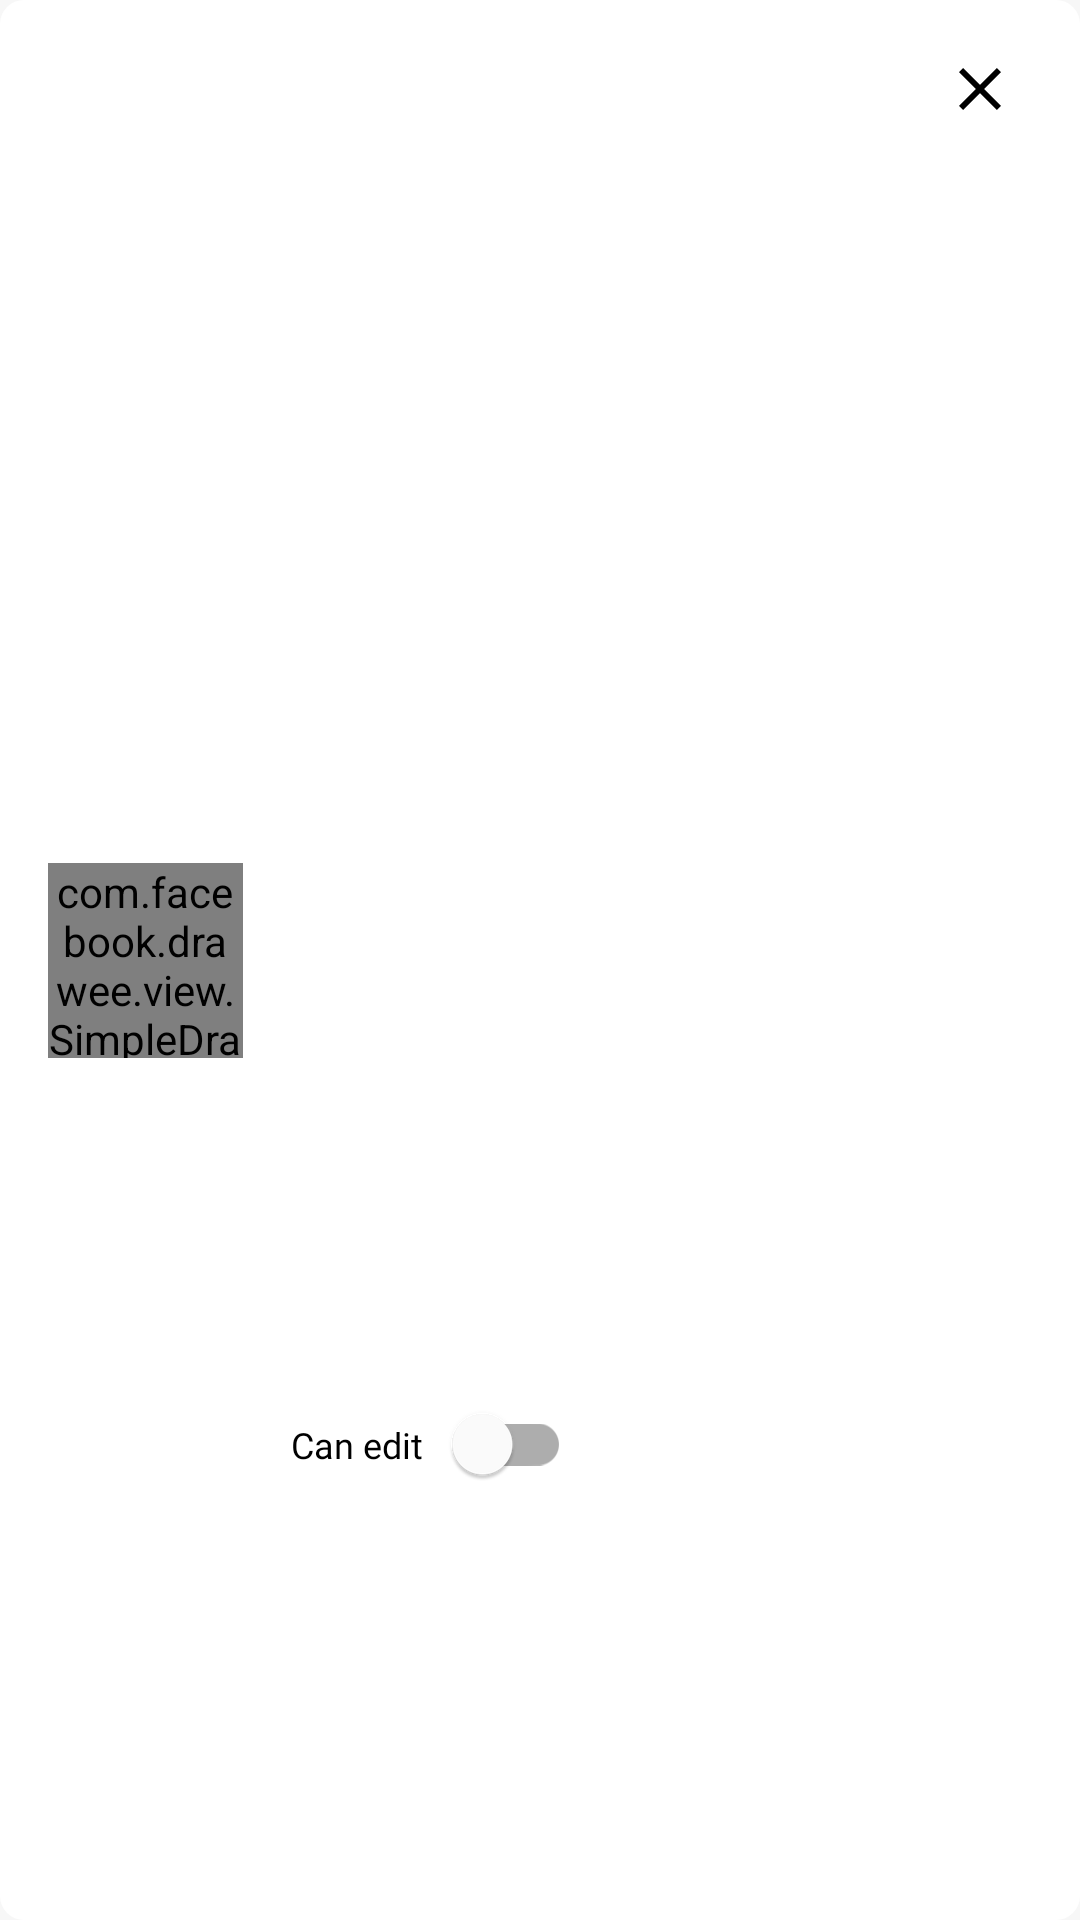

Named icons in this screenshot (1080w x 1920h) and their centers, [x,y]:
close: [980,89]
